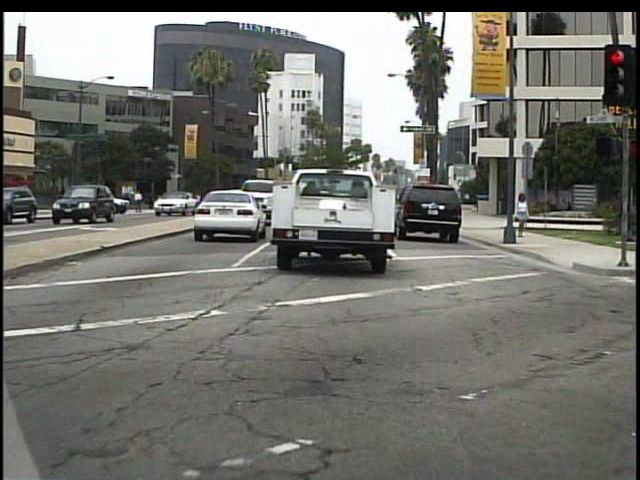person: (514, 189, 533, 241), (135, 187, 148, 218)
